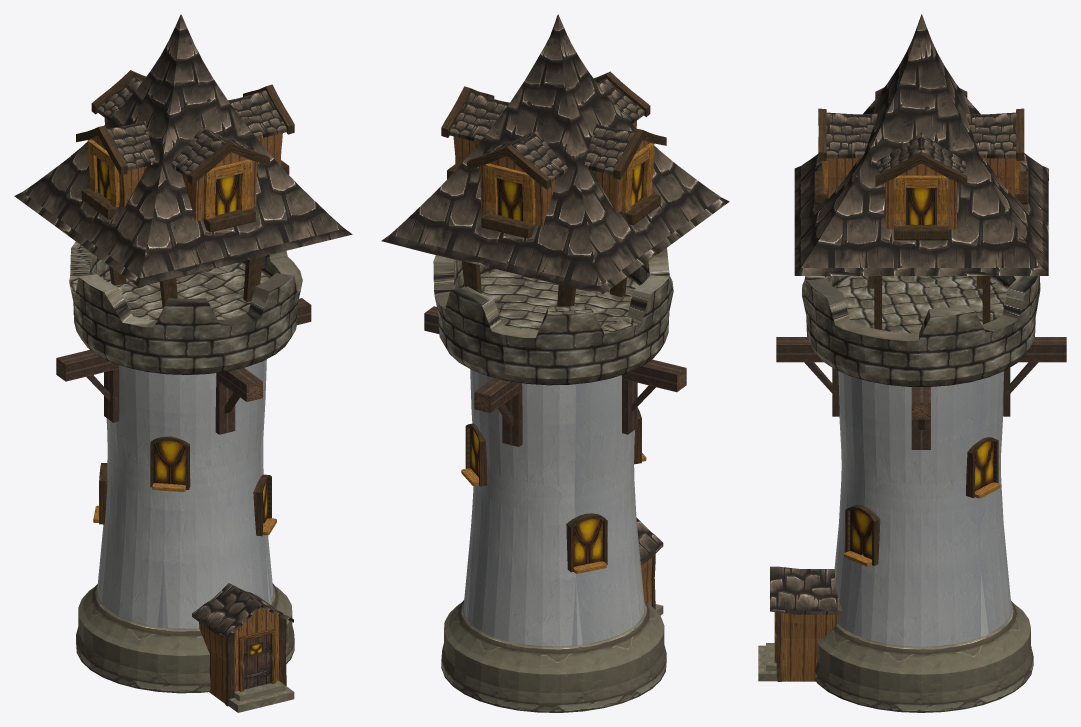
The model's file is inibidor 1.fbx.
The picture shows the model from 3 angles, left to right: view 1: azimuth 30°, elevation 25°; view 2: azimuth 150°, elevation 25°; view 3: azimuth 270°, elevation 25°; orthographic projection. The views are drawn at different scales.
Parts seen in each view (by area): view 1: Cube.010, Cube, Cylinder, Cylinder.001, Cylinder.002, Cube.009, Cube.002, Cube.001, Cube.003, Cylinder.003, Cube.004, Cube.006 (+1 smaller); view 2: Cube.010, Cube, Cylinder.001, Cylinder.002, Cylinder, Cube.001, Cube.004, Cube.003, Cube.009, Cube.002; view 3: Cube.010, Cube, Cylinder, Cylinder.002, Cylinder.001, Cube.003, Cube.009, Cube.004, Cylinder.005, Cube.002, Cylinder.004, Cube.006.
Boxes of the visible parts, left/top/right/bottom form: Cube.010: left=56, top=21, right=294, bottom=710; Cube: left=14, top=14, right=352, bottom=286; Cylinder: left=69, top=241, right=302, bottom=374; Cylinder.001: left=102, top=428, right=267, bottom=573; Cylinder.002: left=76, top=583, right=294, bottom=693; Cube.009: left=192, top=583, right=294, bottom=712; Cube.002: left=171, top=127, right=269, bottom=232; Cube.001: left=76, top=120, right=155, bottom=219; Cube.003: left=228, top=84, right=294, bottom=174; Cylinder.003: left=150, top=436, right=190, bottom=491; Cube.004: left=92, top=70, right=145, bottom=118; Cube.006: left=109, top=256, right=262, bottom=304; Cube.010: left=381, top=15, right=686, bottom=712; Cube: left=408, top=14, right=729, bottom=294; Cylinder.001: left=469, top=441, right=639, bottom=589; Cylinder.002: left=441, top=600, right=666, bottom=712; Cylinder: left=433, top=255, right=673, bottom=350; Cube.001: left=584, top=123, right=666, bottom=223; Cube.004: left=468, top=130, right=567, bottom=228; Cube.003: left=441, top=86, right=509, bottom=171; Cube.009: left=636, top=517, right=663, bottom=615; Cube.002: left=599, top=71, right=650, bottom=127; Cube.010: left=758, top=14, right=1066, bottom=711; Cube: left=794, top=14, right=1048, bottom=275; Cylinder: left=802, top=276, right=1037, bottom=380; Cylinder.002: left=815, top=600, right=1033, bottom=712; Cylinder.001: left=836, top=441, right=1005, bottom=590; Cube.003: left=875, top=132, right=967, bottom=240; Cube.009: left=758, top=566, right=842, bottom=681; Cube.004: left=965, top=108, right=1028, bottom=204; Cylinder.005: left=844, top=505, right=880, bottom=566; Cube.002: left=814, top=113, right=877, bottom=198; Cylinder.004: left=966, top=437, right=1000, bottom=498; Cube.006: left=868, top=276, right=990, bottom=329.
Bounding box in the file's own units: 739 × 1827 × 784.
